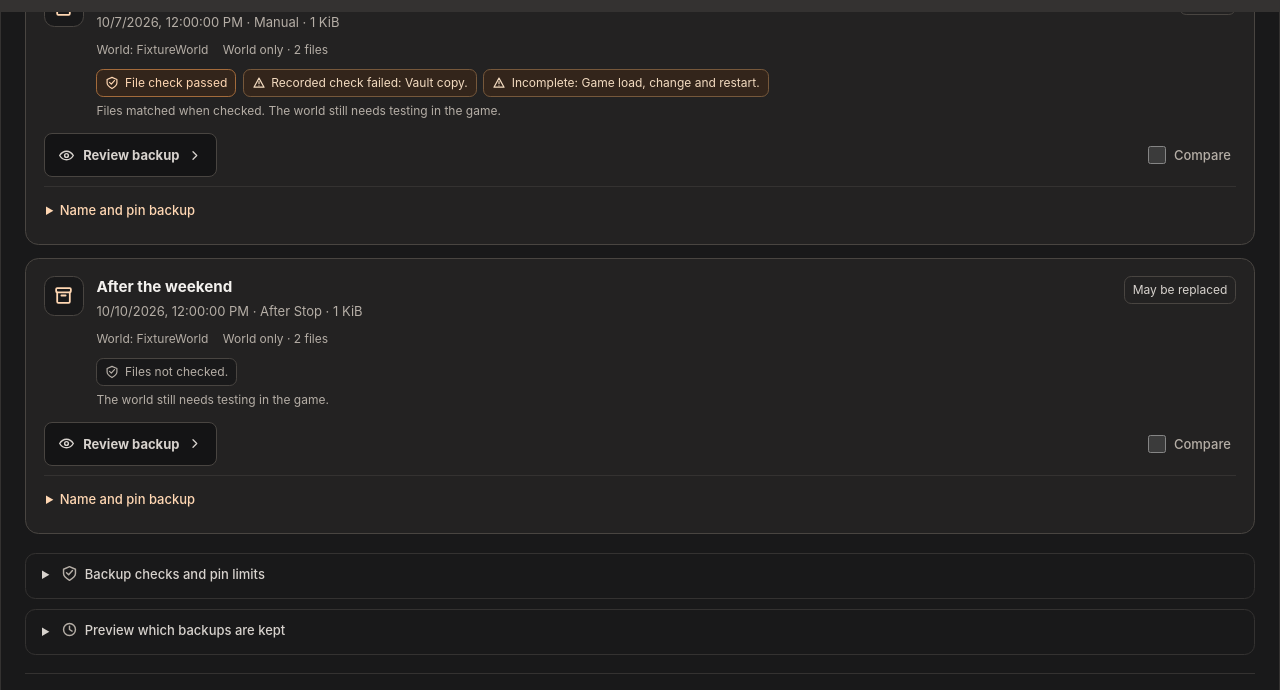
Test case: Backup catalog presentation › keeps failures and incomplete game evidence visible alongside a measured integrity pass
This screenshot has width=1280, height=690.
(page scrolled)
Check: the text "File check passed" is shown, box left=96, top=69, right=236, bottom=97
Check: the text "Recorded check failed: Vault copy." is shown, box left=243, top=69, right=477, bottom=97
Click the button "Review backup" below "File check passed" at (130, 155), box left=44, top=133, right=217, bottom=177
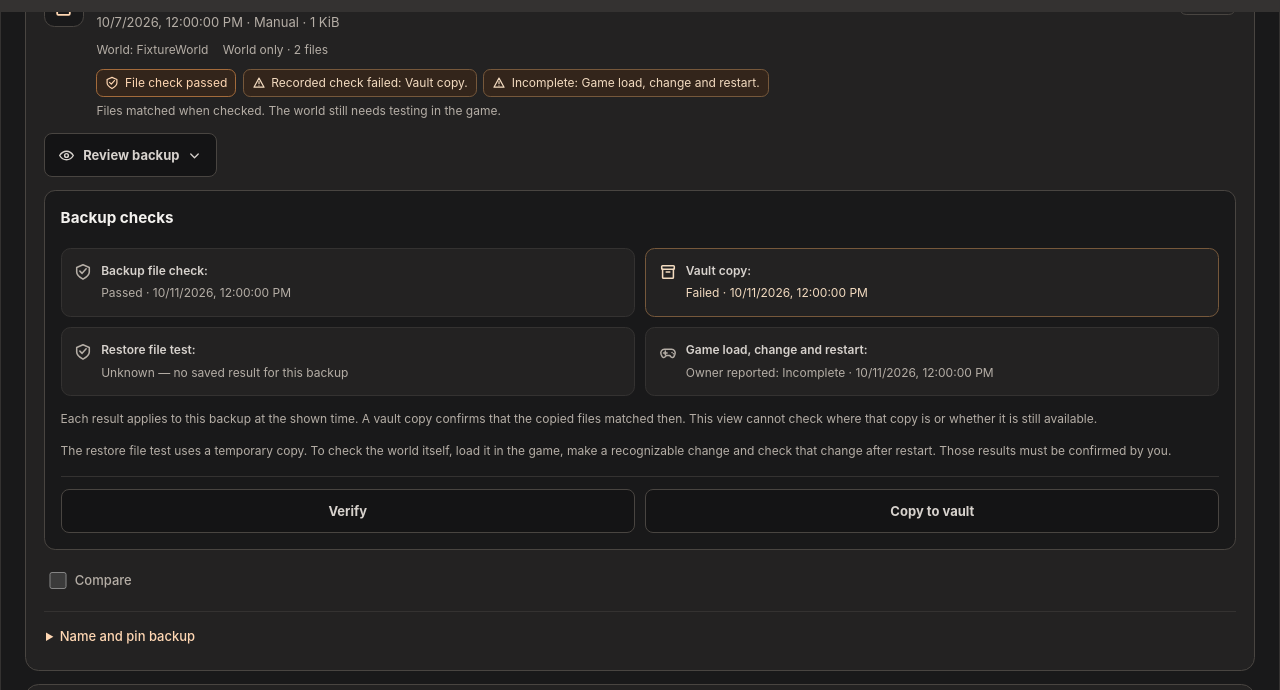
Check: the text "Unknown — no saved result for this backup" is shown, box left=101, top=364, right=348, bottom=382
